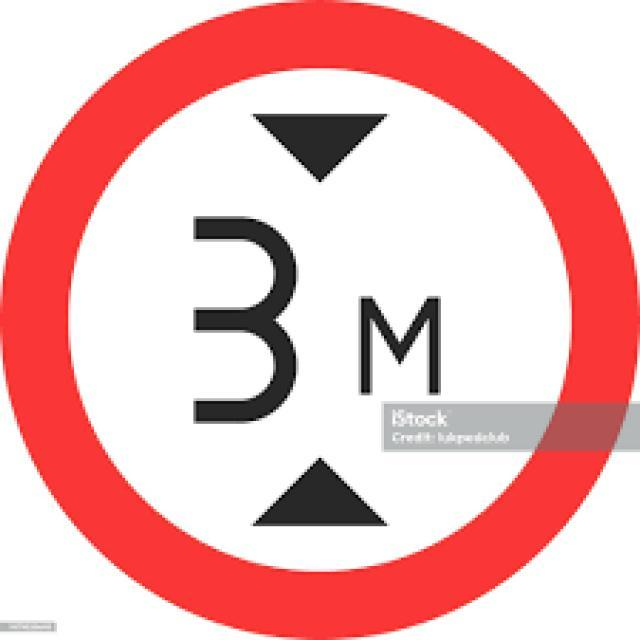height limit: (18, 21, 618, 617)
